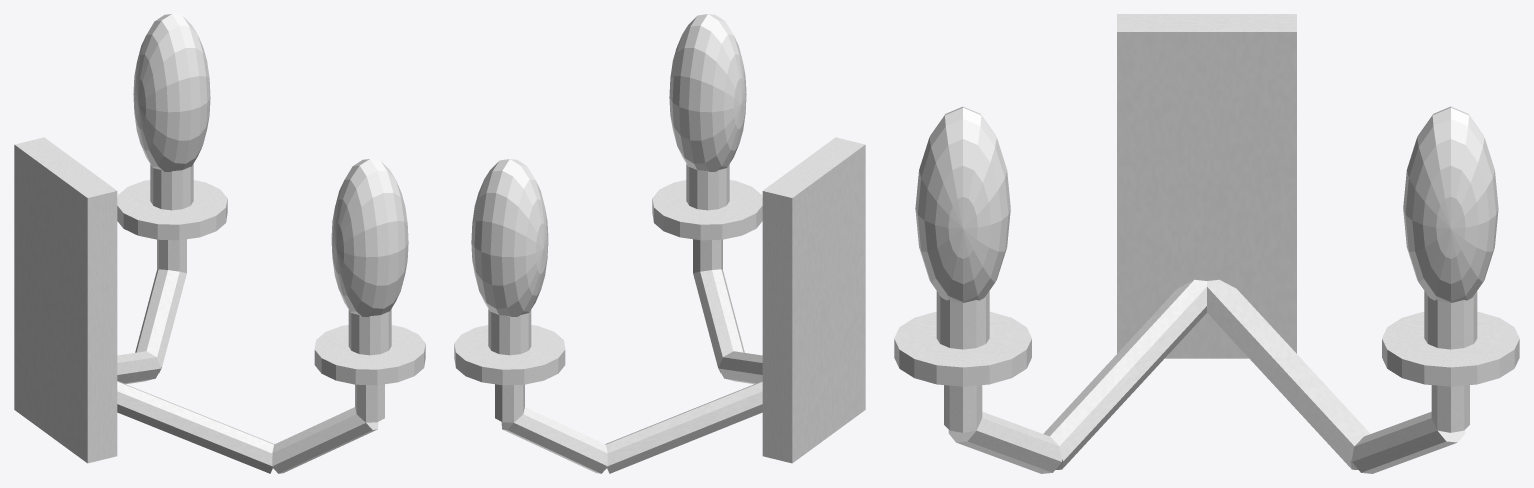
Rendered from candlewallsconce.obj.
The picture shows the model from 3 angles, left to right: view 1: azimuth 30°, elevation 25°; view 2: azimuth 150°, elevation 25°; view 3: azimuth 270°, elevation 25°; orthographic projection. The views are drawn at different scales.
Visible parts, largest first — view 1: Base, Metal, Light0, Light1; view 2: Base, Metal, Light1, Light0; view 3: Base, Metal, Light0, Light1.
Part boxes in pixels (x1=…): Base: x1=14, y1=137, x2=117, y2=463; Metal: x1=117, y1=164, x2=425, y2=473; Light0: x1=133, y1=14, x2=210, y2=171; Light1: x1=331, y1=159, x2=408, y2=316; Base: x1=762, y1=137, x2=865, y2=463; Metal: x1=454, y1=164, x2=762, y2=473; Light1: x1=669, y1=14, x2=746, y2=171; Light0: x1=471, y1=159, x2=548, y2=316; Base: x1=1117, y1=14, x2=1296, y2=358; Metal: x1=894, y1=279, x2=1519, y2=473; Light0: x1=1403, y1=106, x2=1498, y2=302; Light1: x1=915, y1=106, x2=1010, y2=302.
Size of the model in its own units: 0.36 by 0.4169 by 0.59.
